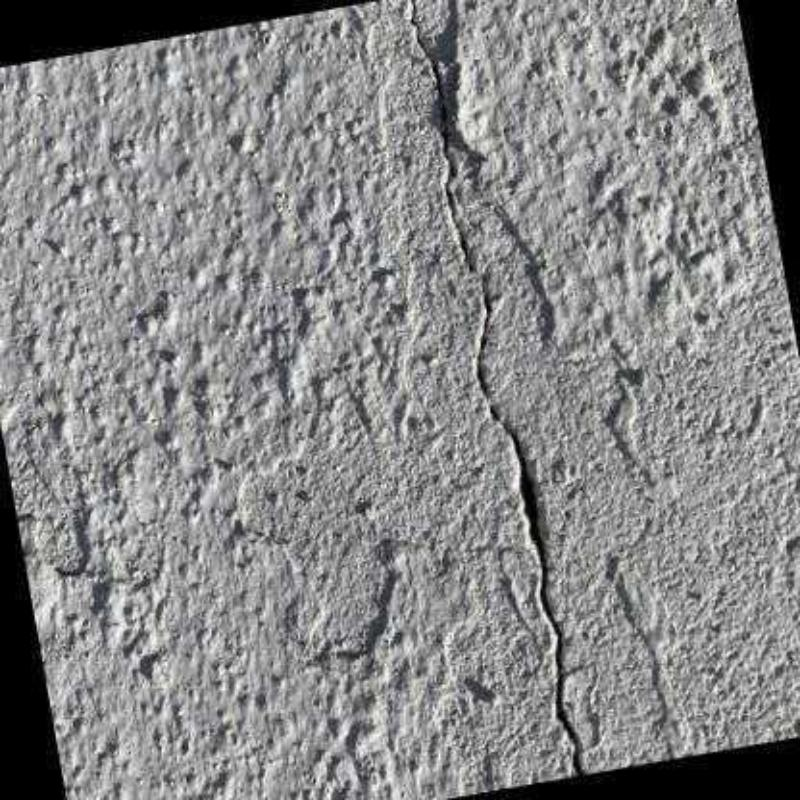pothole: (398, 0, 588, 776)
